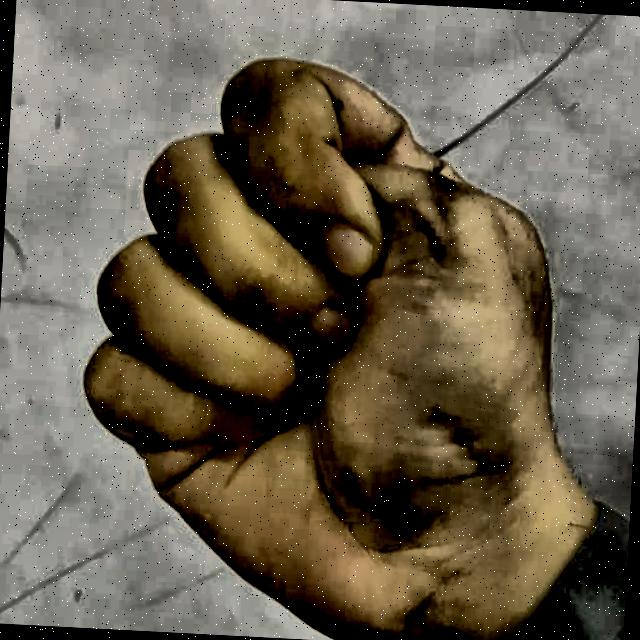To: (54, 38, 615, 640)
